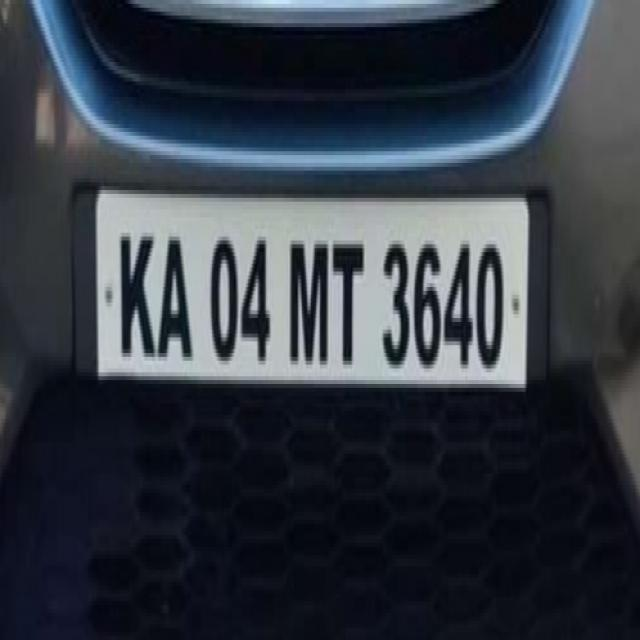0: (208, 212, 238, 366), (476, 223, 504, 379)
3: (380, 221, 412, 373)
4: (442, 228, 476, 374), (240, 222, 274, 366)
6: (412, 239, 442, 378)
A: (156, 224, 197, 368)
K: (118, 221, 156, 370)
M: (287, 229, 330, 373)
T: (332, 231, 366, 365)
